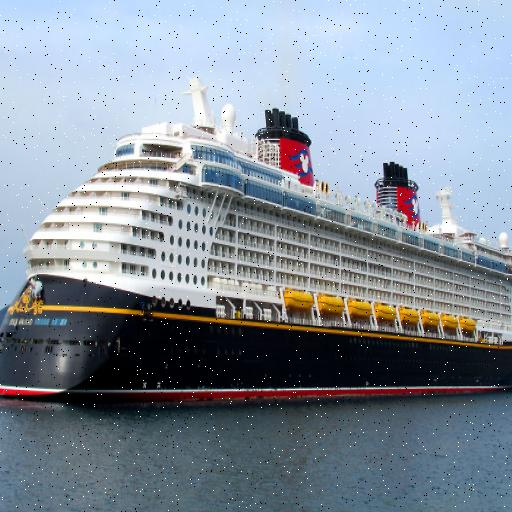cruises: (1, 74, 512, 411)
